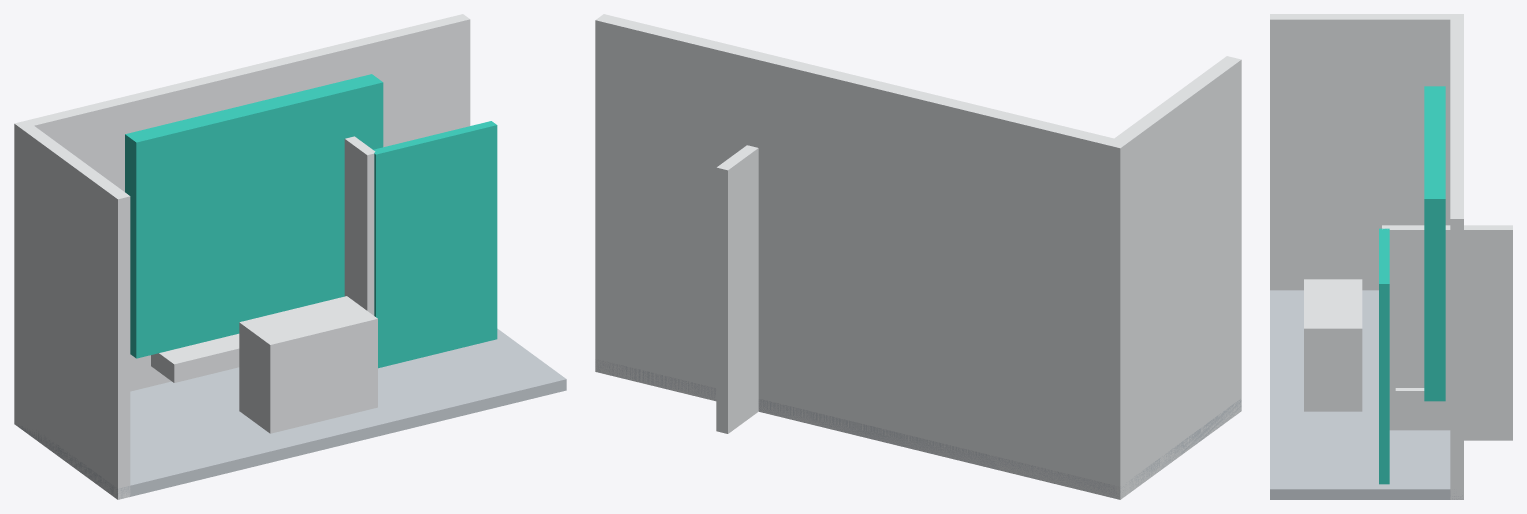
3 renders of one model, left to right at view 1: azimuth 30°, elevation 25°; view 2: azimuth 150°, elevation 25°; view 3: azimuth 270°, elevation 25°, orthographic. The views are drawn at different scales.
Visible parts, largest first — view 1: Exhibition Booth Concept; view 2: Exhibition Booth Concept; view 3: Exhibition Booth Concept.
Boxes of the visible parts, bbox=[...] form: Exhibition Booth Concept: bbox=[14, 14, 566, 499]; Exhibition Booth Concept: bbox=[595, 14, 1241, 499]; Exhibition Booth Concept: bbox=[1270, 14, 1512, 499].
Bounding box in the file's own units: 5 × 3.2 × 2.5.
